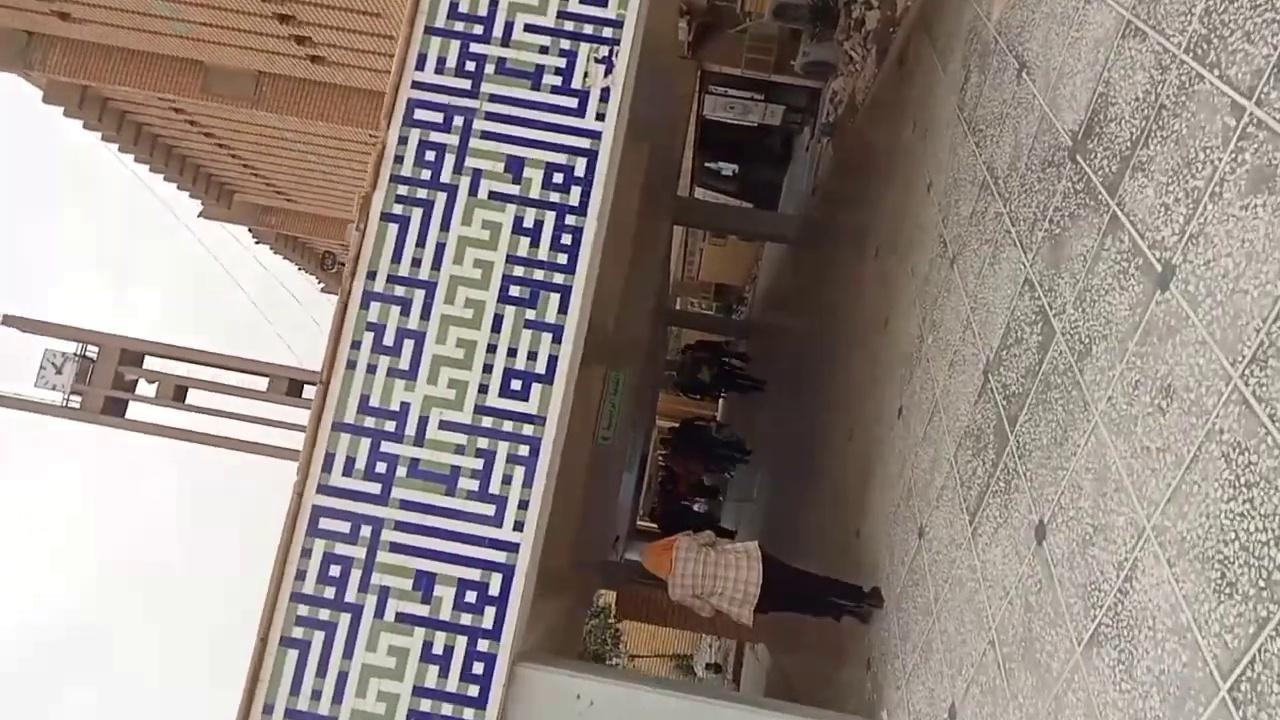person: (638, 528, 886, 625), (646, 415, 752, 538), (672, 337, 767, 400), (662, 414, 752, 479)
tree: (578, 600, 625, 667)
